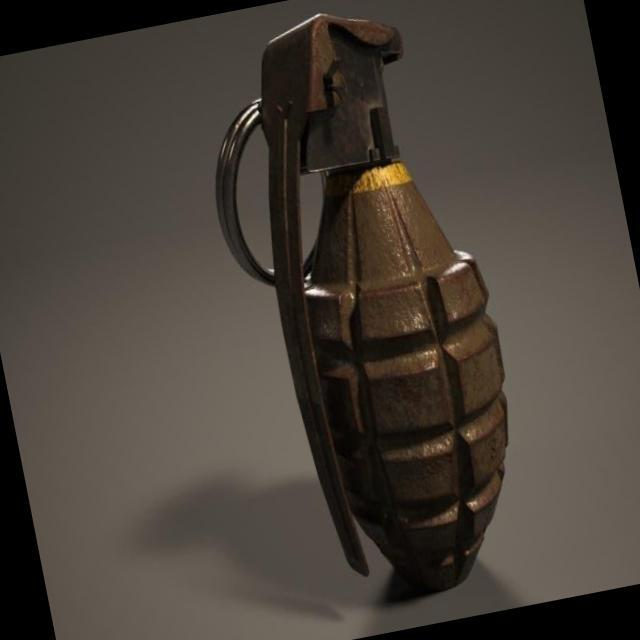grenade: (181, 0, 548, 621)
